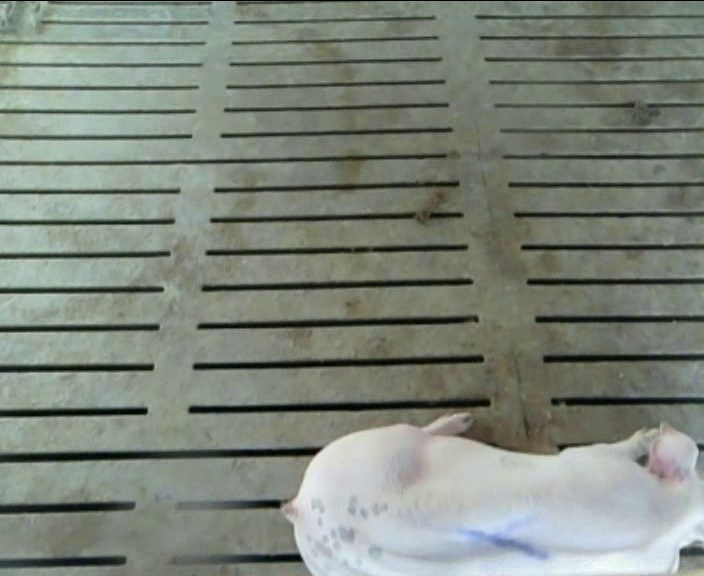pig: (283, 413, 703, 574)
